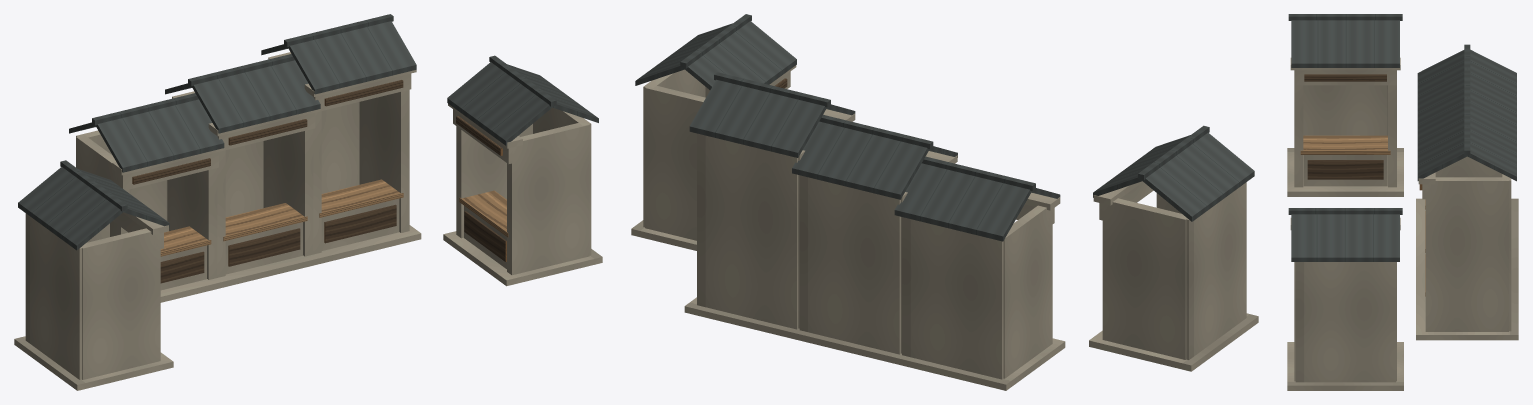
Rendered from sao-tome.glb.
3 renders of one model, left to right at view 1: azimuth 30°, elevation 25°; view 2: azimuth 150°, elevation 25°; view 3: azimuth 270°, elevation 25°, orthographic. The views are drawn at different scales.
Parts seen in each view (by area): view 1: sao-tome; view 2: sao-tome; view 3: sao-tome.
Boxes of the visible parts, x1,y1,x2,y2 form: sao-tome: (14, 14, 602, 390); sao-tome: (631, 14, 1258, 390); sao-tome: (1287, 14, 1518, 390).
Bounding box in the file's own units: 6.73 × 2.5 × 2.77.
Materials: 1 (1 with a texture image).
